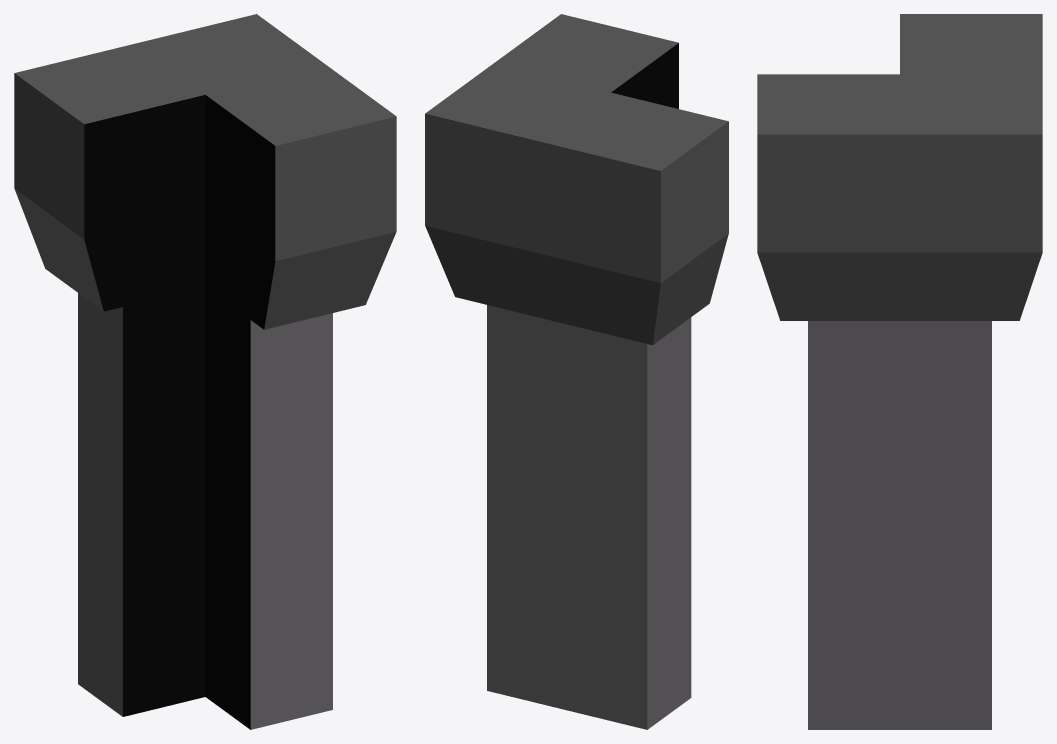
File: Pillar_ThreeQuarters.fbx
The picture shows the model from 3 angles, left to right: view 1: azimuth 30°, elevation 25°; view 2: azimuth 150°, elevation 25°; view 3: azimuth 270°, elevation 25°; orthographic projection. The views are drawn at different scales.
Parts seen in each view (by area): view 1: Pillar_ThreeQuarters; view 2: Pillar_ThreeQuarters; view 3: Pillar_ThreeQuarters.
Boxes of the visible parts, <box> form: Pillar_ThreeQuarters: <box>14,14,396,729</box>; Pillar_ThreeQuarters: <box>425,14,728,729</box>; Pillar_ThreeQuarters: <box>757,14,1042,729</box>.
Size of the model in its own units: 66 by 157 by 66.
